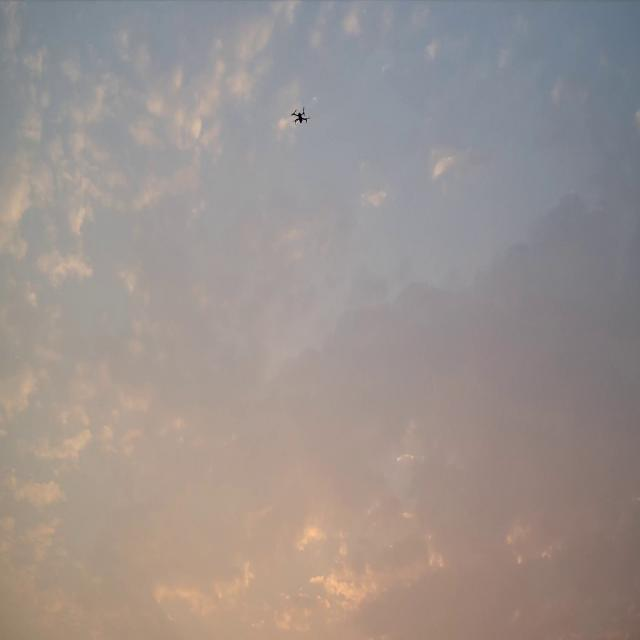drone: (290, 106, 311, 125)
